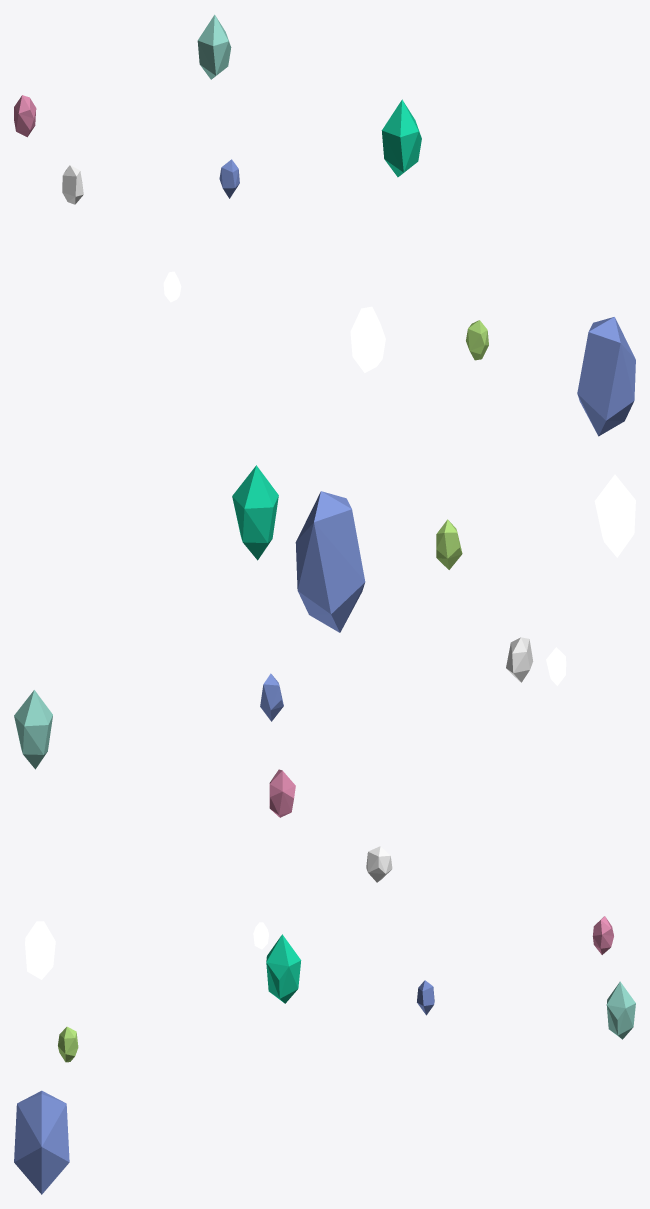
The model's file is crystals1.gltf.
3 views of the same model, one above another, from view 1: azimuth 30°, elevation 25°; view 2: azimuth 150°, elevation 25°; view 3: azimuth 270°, elevation 25° (orthographic). The views are drawn at different scales.
Parts seen in each view (by area): view 1: Icosphere, Icosphere.002, Icosphere.001, Icosphere.023, Icosphere.024, Icosphere.005, Icosphere.003; view 2: Icosphere, Icosphere.002, Icosphere.001, Icosphere.023, Icosphere.024, Icosphere.005, Icosphere.003, Icosphere.022, Icosphere.019; view 3: Icosphere, Icosphere.002, Icosphere.001, Icosphere.023, Icosphere.003, Icosphere.024, Icosphere.005.
Boxes of the visible parts, x1=… form: Icosphere: x1=577, y1=317, x2=635, y2=436; Icosphere.002: x1=381, y1=99, x2=421, y2=177; Icosphere.001: x1=350, y1=306, x2=385, y2=372; Icosphere.023: x1=197, y1=14, x2=231, y2=79; Icosphere.024: x1=14, y1=95, x2=36, y2=137; Icosphere.005: x1=466, y1=320, x2=488, y2=360; Icosphere.003: x1=62, y1=165, x2=83, y2=204; Icosphere: x1=295, y1=491, x2=365, y2=632; Icosphere.002: x1=232, y1=465, x2=278, y2=560; Icosphere.001: x1=594, y1=474, x2=635, y2=557; Icosphere.023: x1=14, y1=690, x2=52, y2=769; Icosphere.024: x1=269, y1=769, x2=295, y2=817; Icosphere.005: x1=436, y1=519, x2=462, y2=569; Icosphere.003: x1=506, y1=637, x2=533, y2=682; Icosphere.022: x1=260, y1=673, x2=283, y2=721; Icosphere.019: x1=546, y1=647, x2=566, y2=685; Icosphere: x1=14, y1=1090, x2=69, y2=1194; Icosphere.002: x1=266, y1=934, x2=301, y2=1003; Icosphere.001: x1=25, y1=921, x2=55, y2=979; Icosphere.023: x1=606, y1=981, x2=635, y2=1039; Icosphere.003: x1=366, y1=846, x2=392, y2=882; Icosphere.024: x1=592, y1=916, x2=613, y2=954; Icosphere.005: x1=58, y1=1026, x2=78, y2=1062.
Bounding box in the file's own units: 105 × 66.58 × 163.
